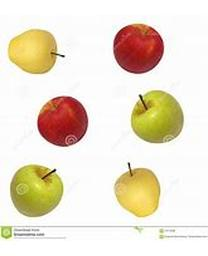apple: (131, 91, 185, 144), (10, 165, 64, 218), (113, 24, 165, 75), (113, 163, 161, 217), (38, 96, 89, 146), (8, 30, 65, 73)
